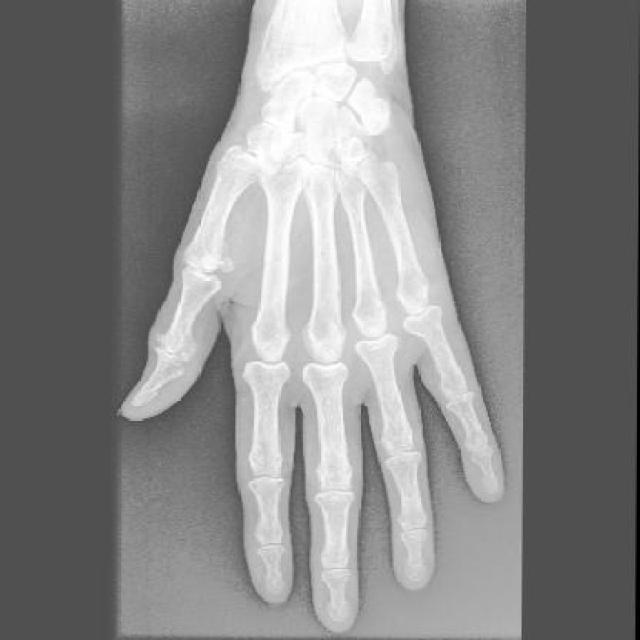Fracture: (397, 260, 433, 297)
